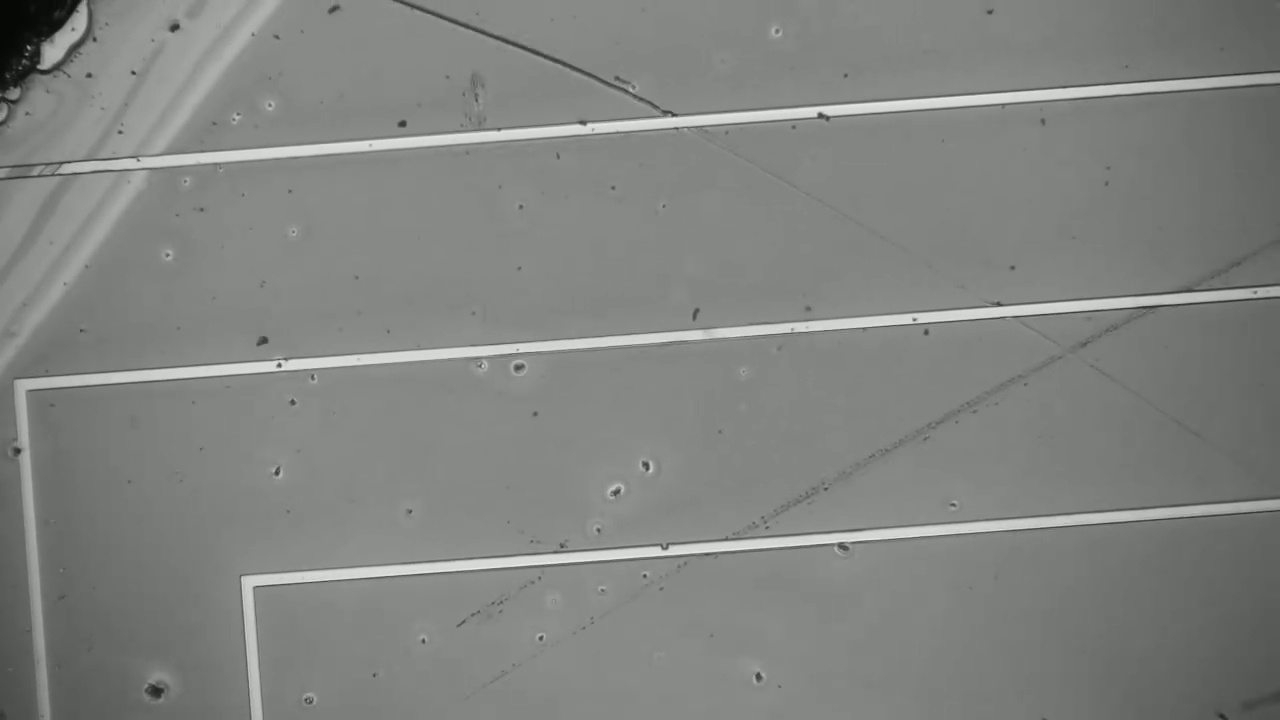edge_bite: (654, 535, 677, 562)
gray_line: (0, 154, 74, 188)
scratch: (475, 250, 1263, 690), (684, 127, 1196, 435), (398, 0, 663, 111)
stains_enbedded: (3, 436, 40, 468), (805, 98, 840, 130)
